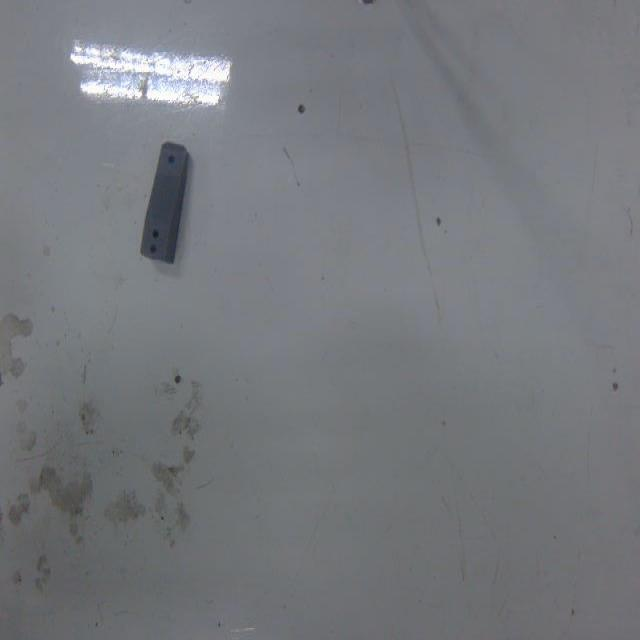grey: (141, 143, 192, 267)
head: (167, 152, 177, 166)
